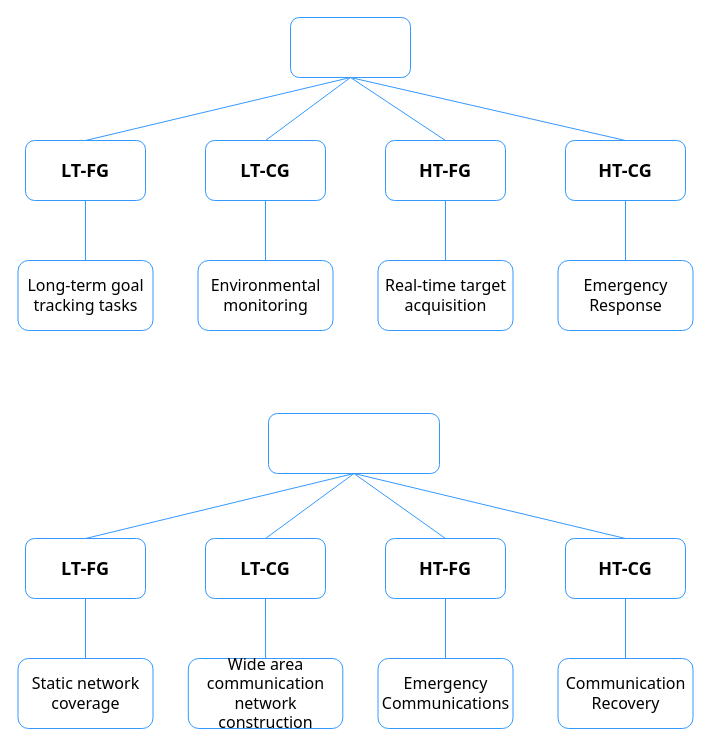
This 710x749 diagram has some shape labels left out. Here are the shapes that lost their labels. From the top down, the centre of each, then its label:
the point at 350,47: Sensing
the point at 354,443: Communication
